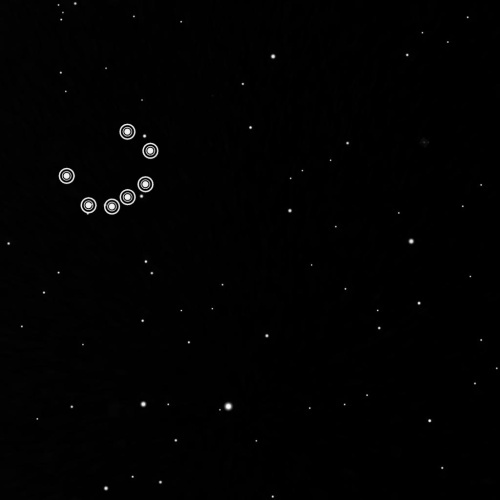corona_borealis: (56, 113, 164, 219)
